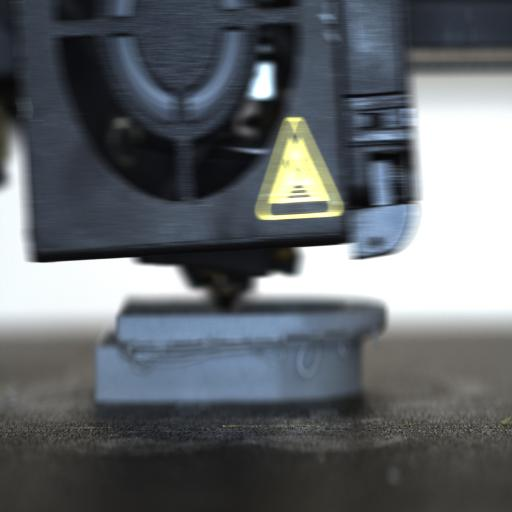layer_shift: (89, 319, 390, 363)
